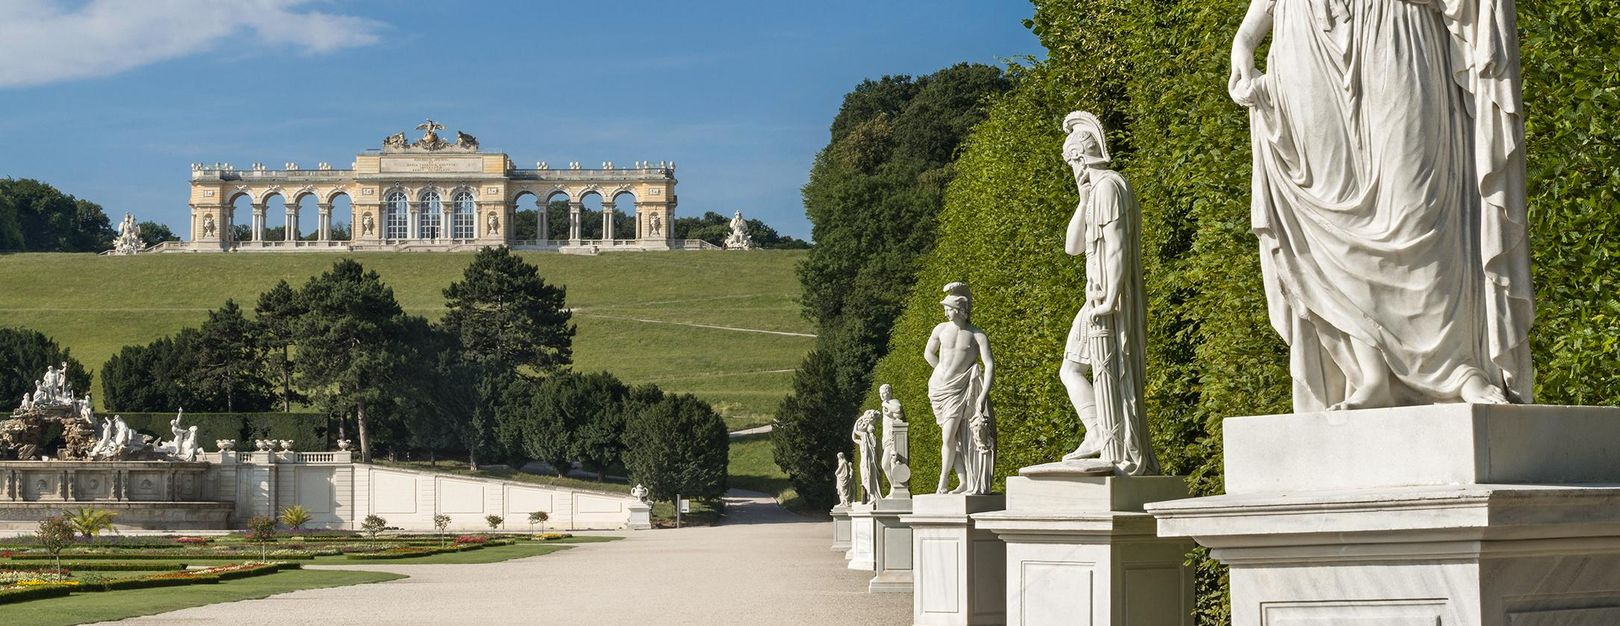person-like: (1216, 2, 1552, 412), (1045, 100, 1164, 482), (916, 270, 999, 495), (871, 377, 914, 504), (842, 404, 884, 500), (827, 443, 855, 507), (110, 204, 152, 246), (721, 206, 755, 240), (416, 117, 446, 147)
